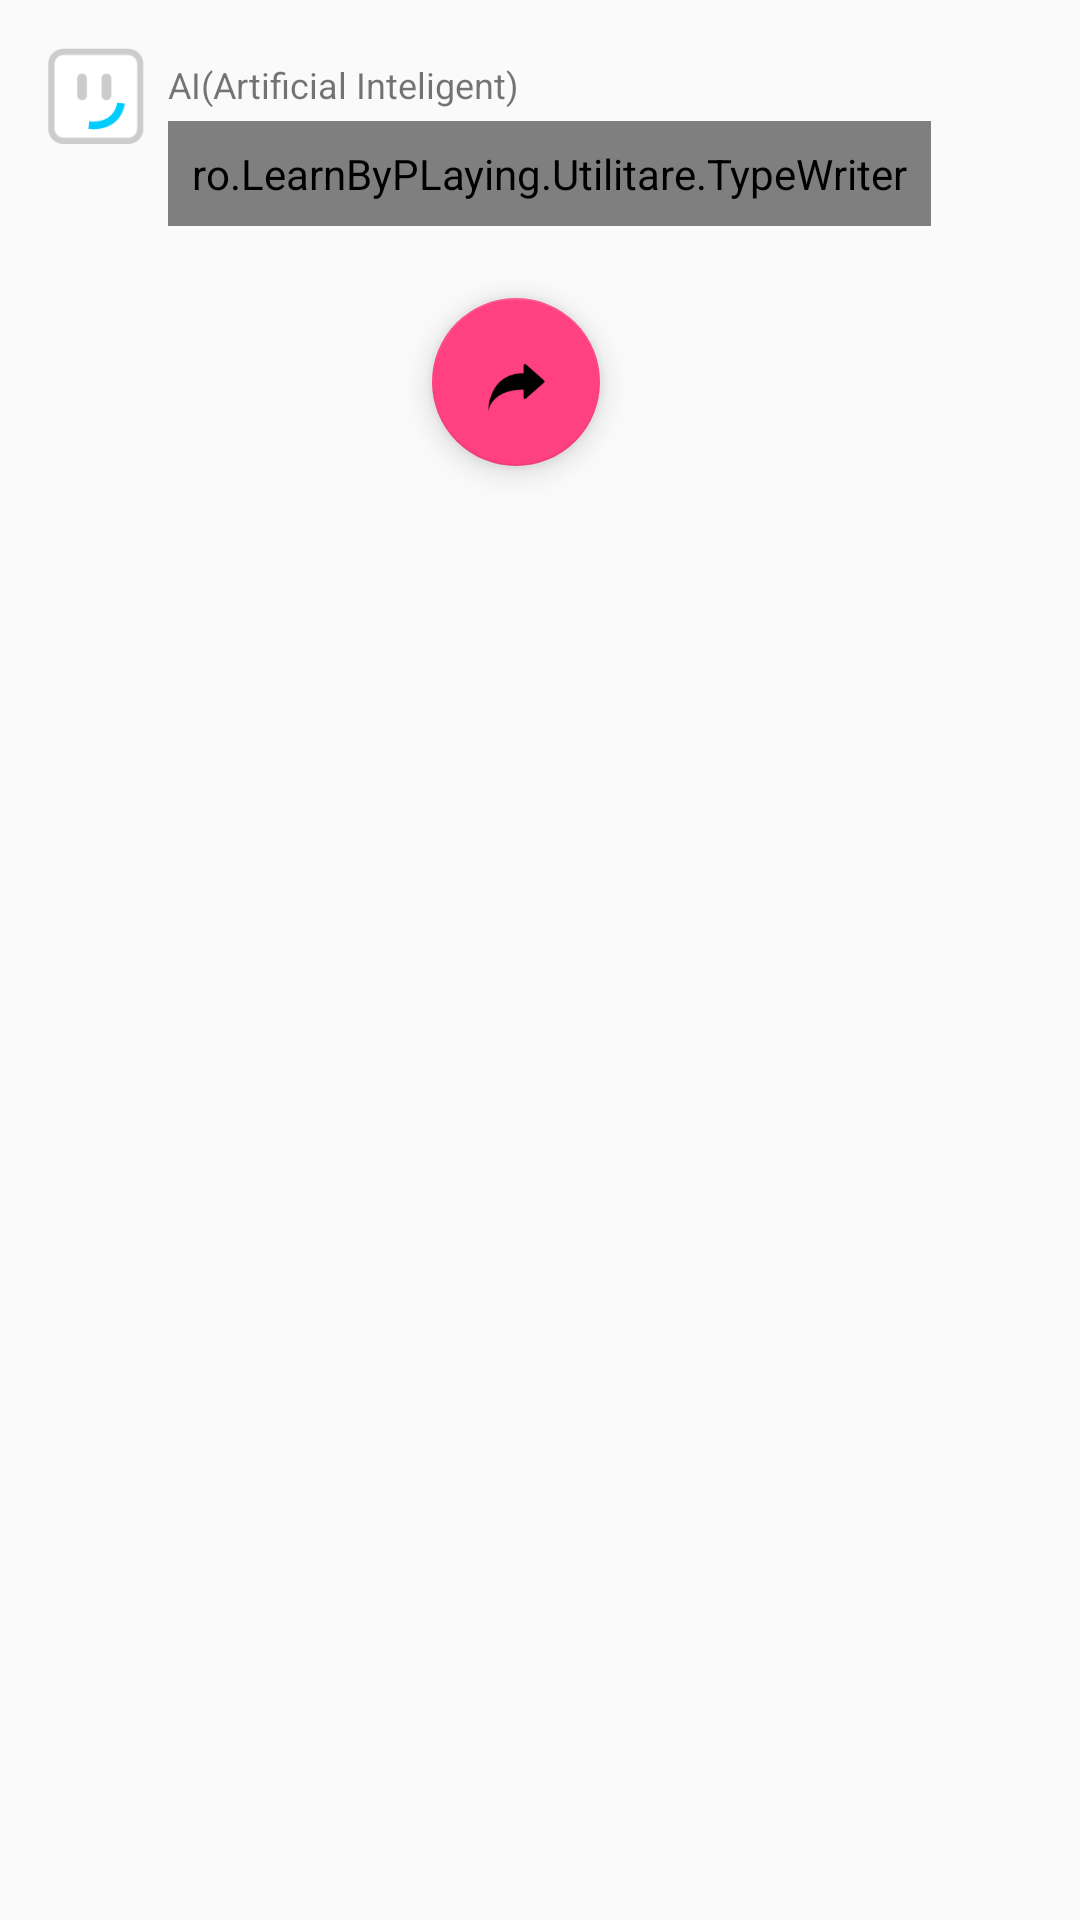

Screen size 1080x1920. Icon name, then its box in pixels as [x1=x1, y1=y1, x2=x2, y2=y2]:
ai happy: [x1=48, y1=49, x2=143, y2=144]
arrow right: [x1=432, y1=298, x2=600, y2=466]
